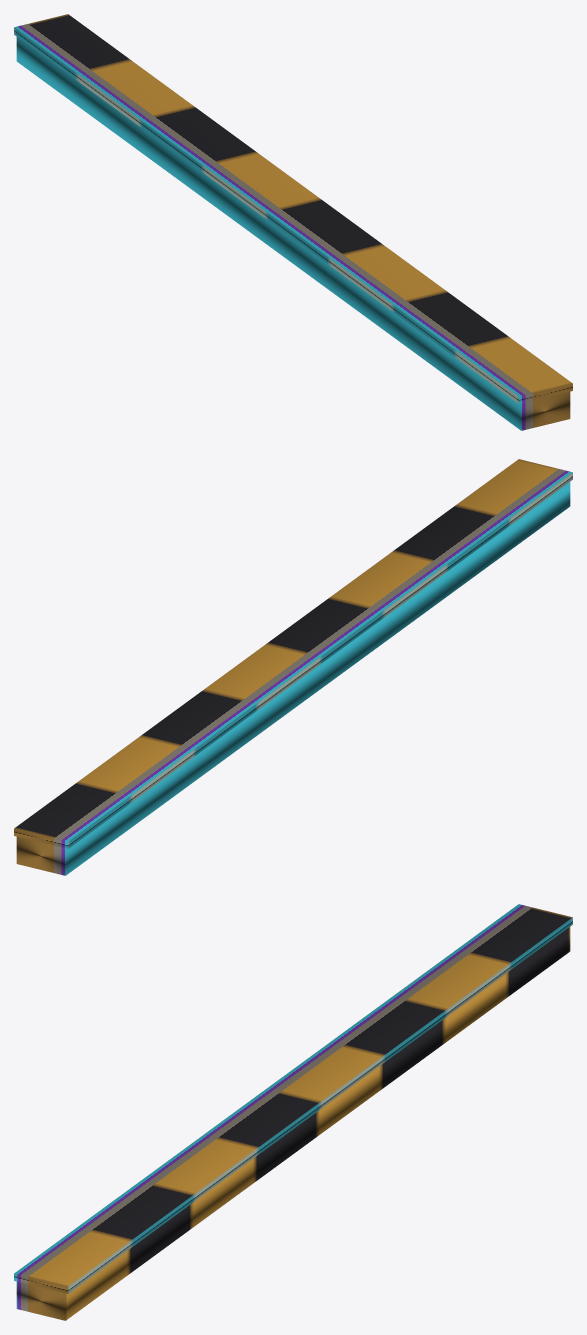
File: SM_Track_CairoCurb_A_LOD1.obj
3 views of the same model, one above another, from view 1: azimuth 30°, elevation 25°; view 2: azimuth 150°, elevation 25°; view 3: azimuth 330°, elevation 25° (orthographic).
Parts seen in each view (by area): view 1: SM_Track_CairoCurb_A_LOD1; view 2: SM_Track_CairoCurb_A_LOD1; view 3: SM_Track_CairoCurb_A_LOD1.
Part boxes in pixels (<box>): SM_Track_CairoCurb_A_LOD1: <box>14,14,572,430</box>; SM_Track_CairoCurb_A_LOD1: <box>14,459,572,875</box>; SM_Track_CairoCurb_A_LOD1: <box>14,904,572,1320</box>.
Bounding box in the file's own units: 0.62 × 0.38 × 10.
Materials: 1 (1 with a texture image).
